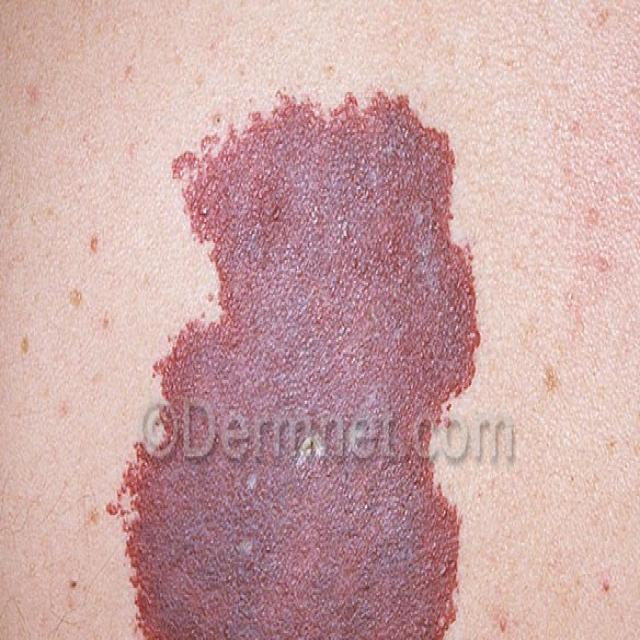Vascular Tumors: (119, 76, 498, 640)
